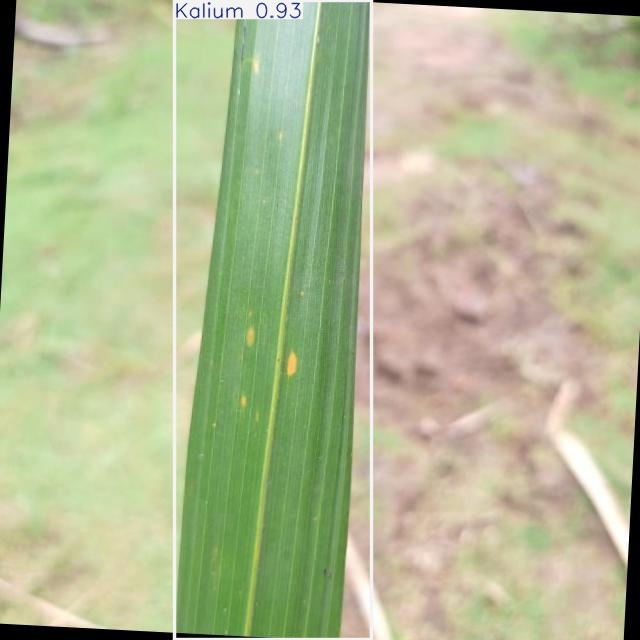Kalium: (175, 1, 372, 639)
